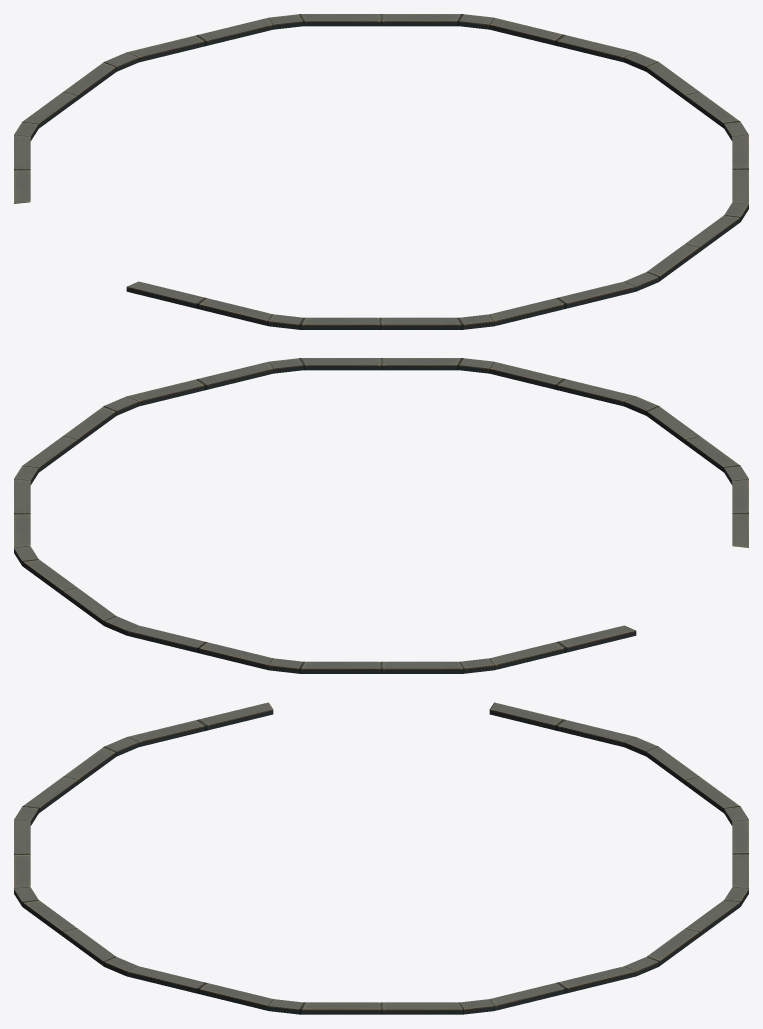
File: cs_chengshi_xuyuanshufb_002.FBX
3 renders of one model, top to bottom at view 1: azimuth 30°, elevation 25°; view 2: azimuth 150°, elevation 25°; view 3: azimuth 270°, elevation 25°, orthographic.
Parts seen in each view (by area): view 1: cs_chengshi_xuyuanshufb_002; view 2: cs_chengshi_xuyuanshufb_002; view 3: cs_chengshi_xuyuanshufb_002.
Boxes of the visible parts, x1,y1,x2,y2 form: cs_chengshi_xuyuanshufb_002: (14,14,748,329); cs_chengshi_xuyuanshufb_002: (14,358,748,673); cs_chengshi_xuyuanshufb_002: (14,702,748,1014).
Bounding box in the file's own units: 506 × 512 × 3.92.
